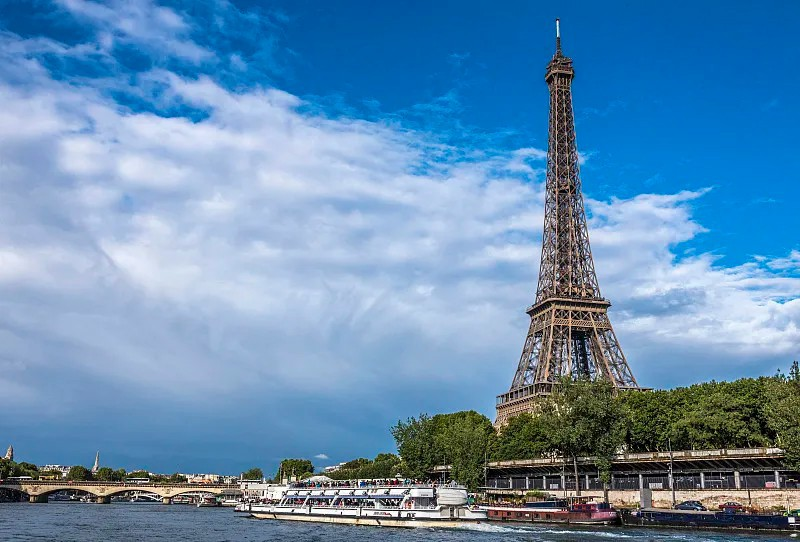Eiffel: (493, 18, 641, 428)
